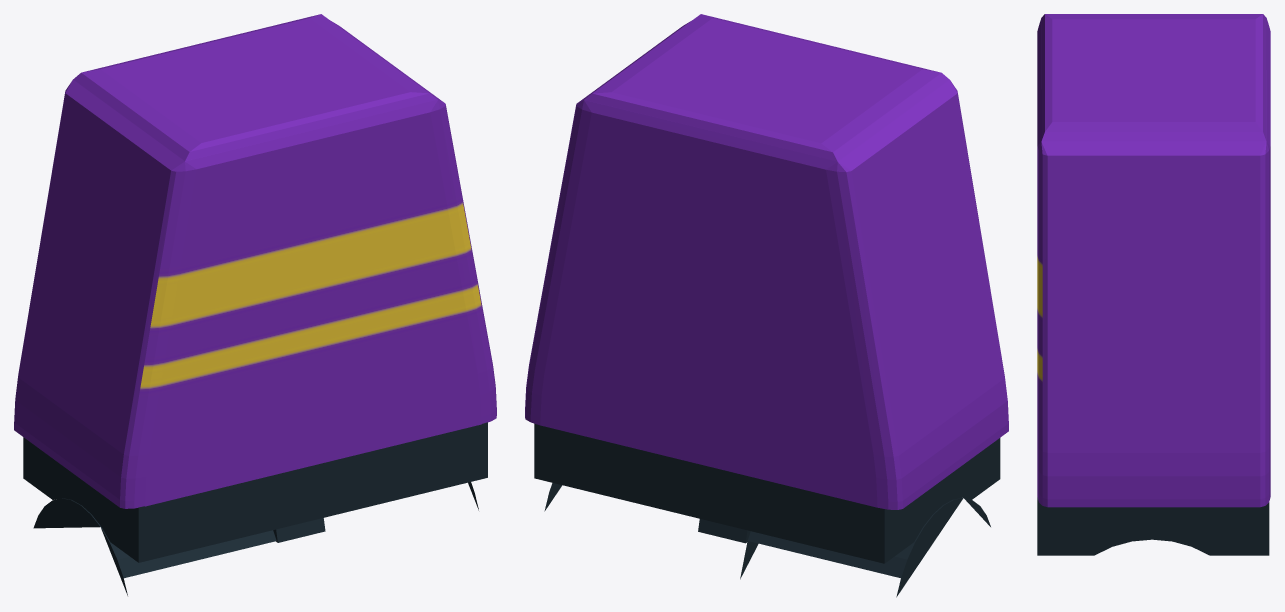
File: torso.glb
3 views of the same model, side by side, from view 1: azimuth 30°, elevation 25°; view 2: azimuth 150°, elevation 25°; view 3: azimuth 270°, elevation 25° (orthographic).
Parts seen in each view (by area): view 1: dex_torso; view 2: dex_torso; view 3: dex_torso.
Boxes of the visible parts, left/top/right/bottom form: dex_torso: left=14, top=14, right=496, bottom=595; dex_torso: left=525, top=14, right=1008, bottom=597; dex_torso: left=1037, top=14, right=1270, bottom=555.
Bounding box in the file's own units: 0.6858 × 0.7937 × 0.3654.
Materials: 3 (1 with a texture image).
